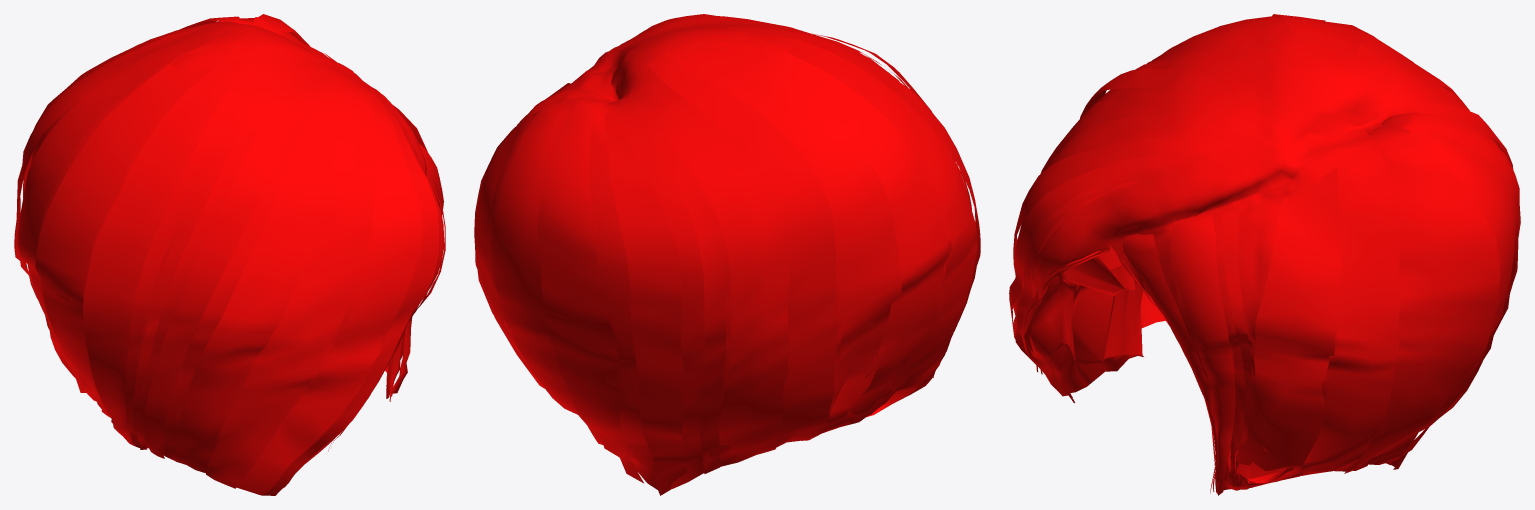
Rendered from bob01_F.glb.
The picture shows the model from 3 angles, left to right: view 1: azimuth 30°, elevation 25°; view 2: azimuth 150°, elevation 25°; view 3: azimuth 270°, elevation 25°; orthographic projection. The views are drawn at different scales.
Size of the model in its own units: 0.2357 by 0.2219 by 0.2456.
1 material, 1 textured.
